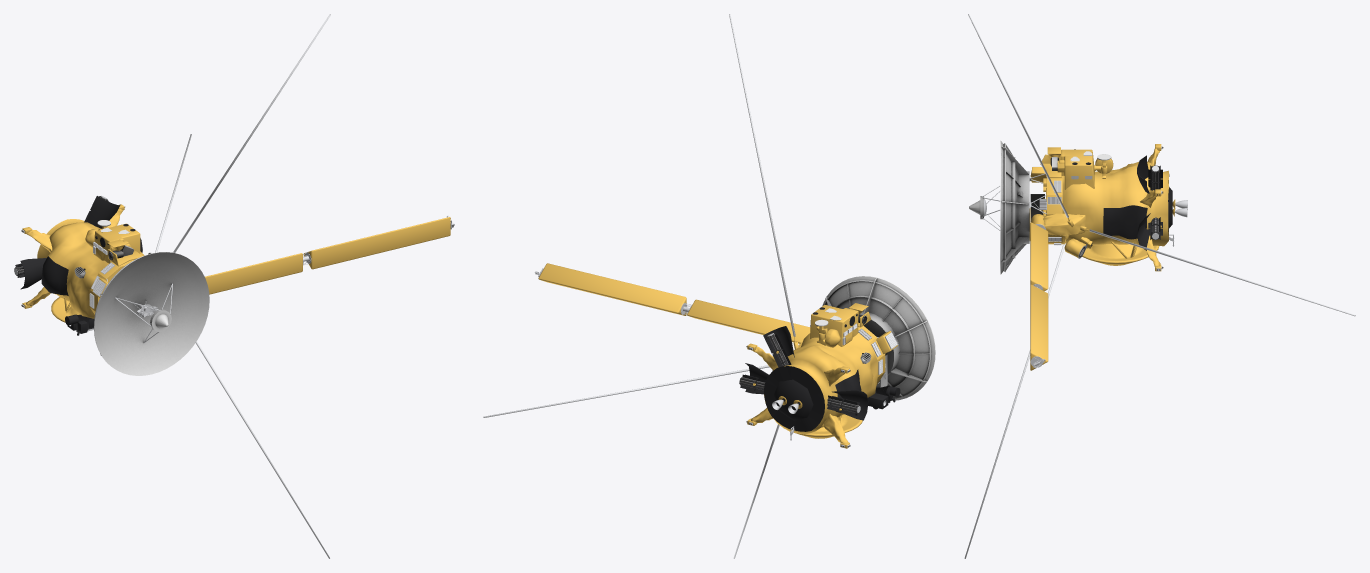
File: cassini.glb
The picture shows the model from 3 angles, left to right: view 1: azimuth 30°, elevation 25°; view 2: azimuth 150°, elevation 25°; view 3: azimuth 270°, elevation 25°; orthographic projection.
Parts seen in each view (by area): view 1: HighGainAntenna, Bus, MagnetometerBoom, RemoteSensingPallet, RPWSAntennas, RTG; view 2: Bus, HighGainAntenna, MagnetometerBoom, RTG, RemoteSensingPallet, RPWSAntennas; view 3: Bus, HighGainAntenna, MagnetometerBoom, RemoteSensingPallet, RPWSAntennas, RTG, HuygensProbe.
Part boxes in pixels (x1,y1,x2,y2): HighGainAntenna: (94,252,209,375); Bus: (21,204,144,335); MagnetometerBoom: (205,215,454,294); RemoteSensingPallet: (85,220,142,266); RPWSAntennas: (155,14,330,558); RTG: (14,195,142,289); Bus: (746,325,900,448); HighGainAntenna: (822,276,935,400); MagnetometerBoom: (534,263,810,343); RTG: (739,326,868,420); RemoteSensingPallet: (810,303,871,347); RPWSAntennas: (483,14,795,558); Bus: (1030,144,1174,271); HighGainAntenna: (969,140,1031,274); MagnetometerBoom: (1029,208,1048,370); RemoteSensingPallet: (1040,147,1113,189); RPWSAntennas: (964,14,1355,558); RTG: (1137,155,1162,250); HuygensProbe: (1082,244,1159,265).
Size of the model in its own units: 13.11 by 17.98 by 11.67.
7 materials, 2 textured.
